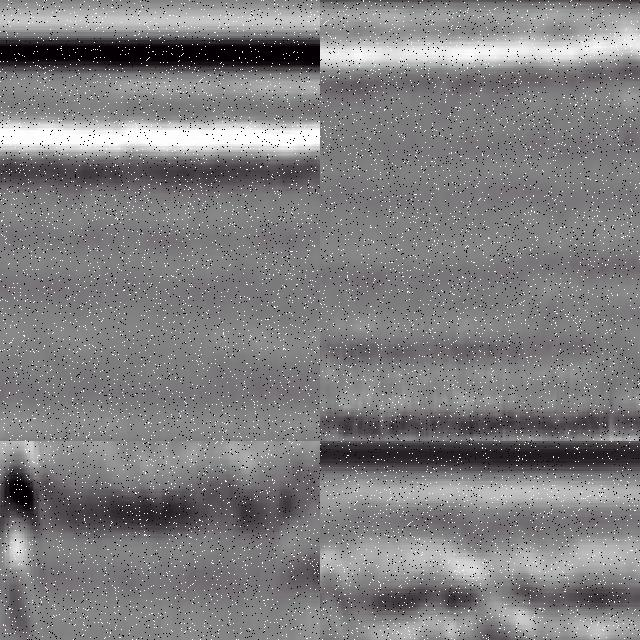crack: (1, 442, 42, 640)
loose: (321, 41, 448, 208), (321, 556, 549, 640)
